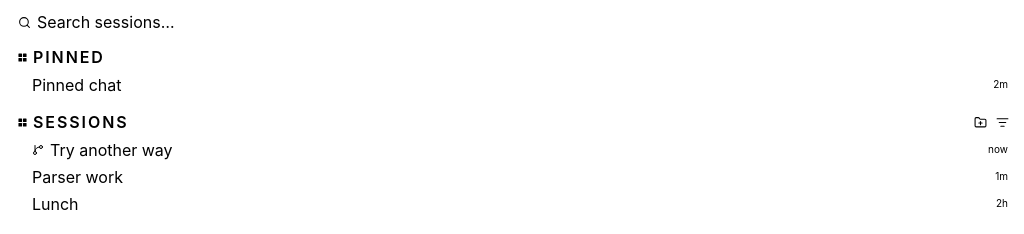
sessions sidebar › a search with no match says so, with one clear button (W51-b)
Expected: the button "Lunch 2h" is shown, [8, 190, 1016, 217]
Type "zzqx storyboard" into the search field named "Search conversations".
click(522, 22); type("zzqx storyboard")  # box [37, 6, 1006, 39]
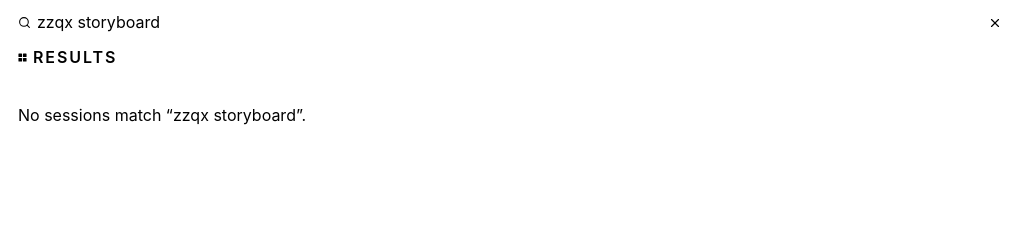
Expected: the number of buttons named "Clear search" is 1, [984, 14, 1006, 32]
